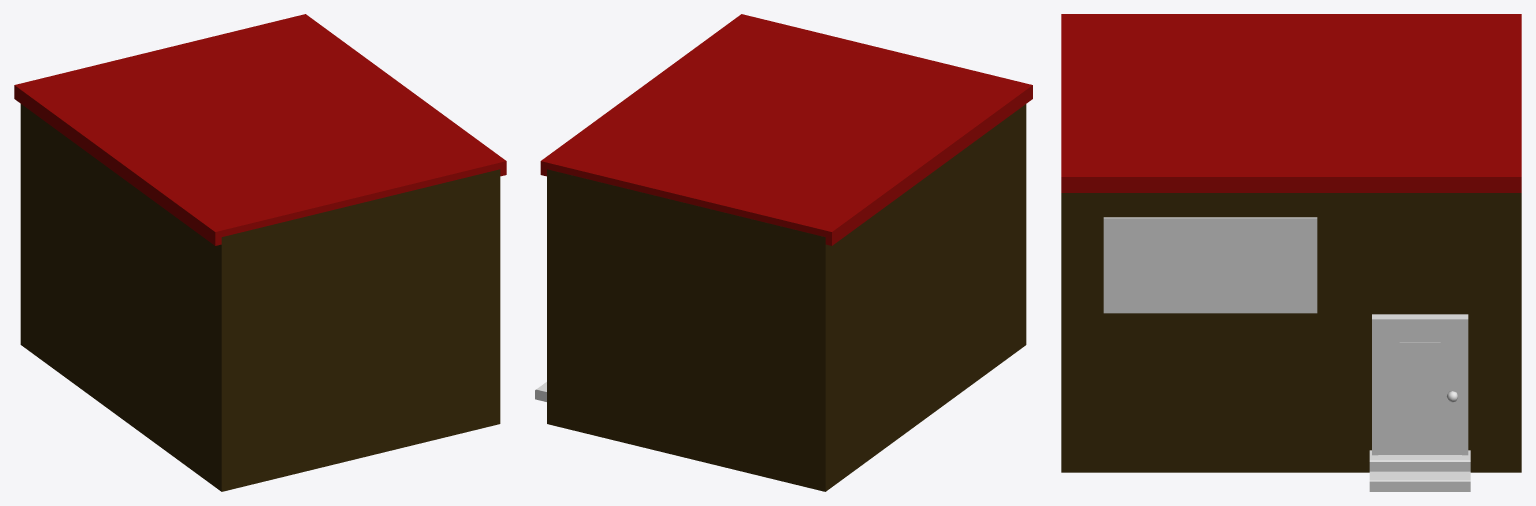
File: Huis2.fbx
3 renders of one model, left to right at view 1: azimuth 30°, elevation 25°; view 2: azimuth 150°, elevation 25°; view 3: azimuth 270°, elevation 25°, orthographic. The views are drawn at different scales.
Parts seen in each view (by area): view 1: Cube.028, Cube.029; view 2: Cube.028, Cube.029; view 3: Cube.028, Cube.029, Plane.008, Cube.032, Plane.009, Cube.031, Cube.030.
Boxes of the visible parts, box(x1,y1,x2,y2) form: Cube.028: box(20, 104, 500, 491); Cube.029: box(14, 14, 506, 245); Cube.028: box(547, 104, 1026, 491); Cube.029: box(540, 14, 1032, 245); Cube.028: box(1061, 193, 1521, 472); Cube.029: box(1061, 14, 1521, 192); Plane.008: box(1103, 217, 1317, 313); Cube.032: box(1378, 324, 1461, 454); Plane.009: box(1399, 342, 1440, 444); Cube.031: box(1369, 450, 1470, 491); Cube.030: box(1372, 314, 1468, 455).
Bounding box in the file's own units: 183 × 144 × 200.
